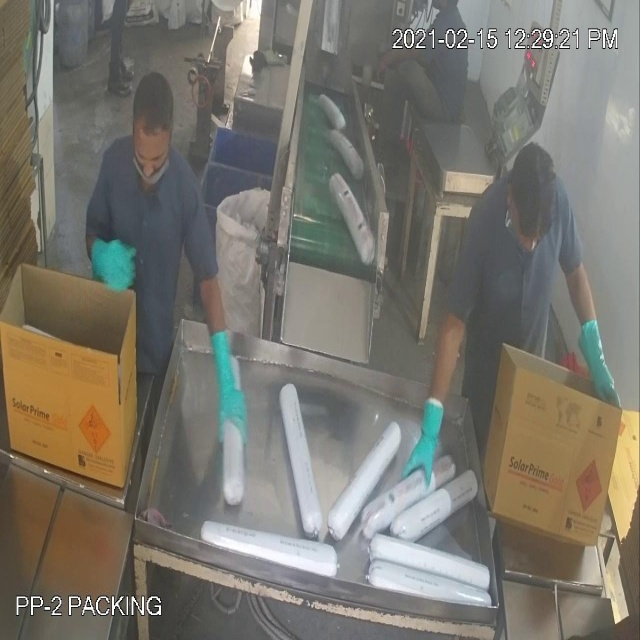Guantes: (193, 295, 253, 464), (74, 212, 145, 308), (400, 367, 450, 499), (577, 294, 623, 420)
Sin_guantes: (371, 36, 428, 85)
